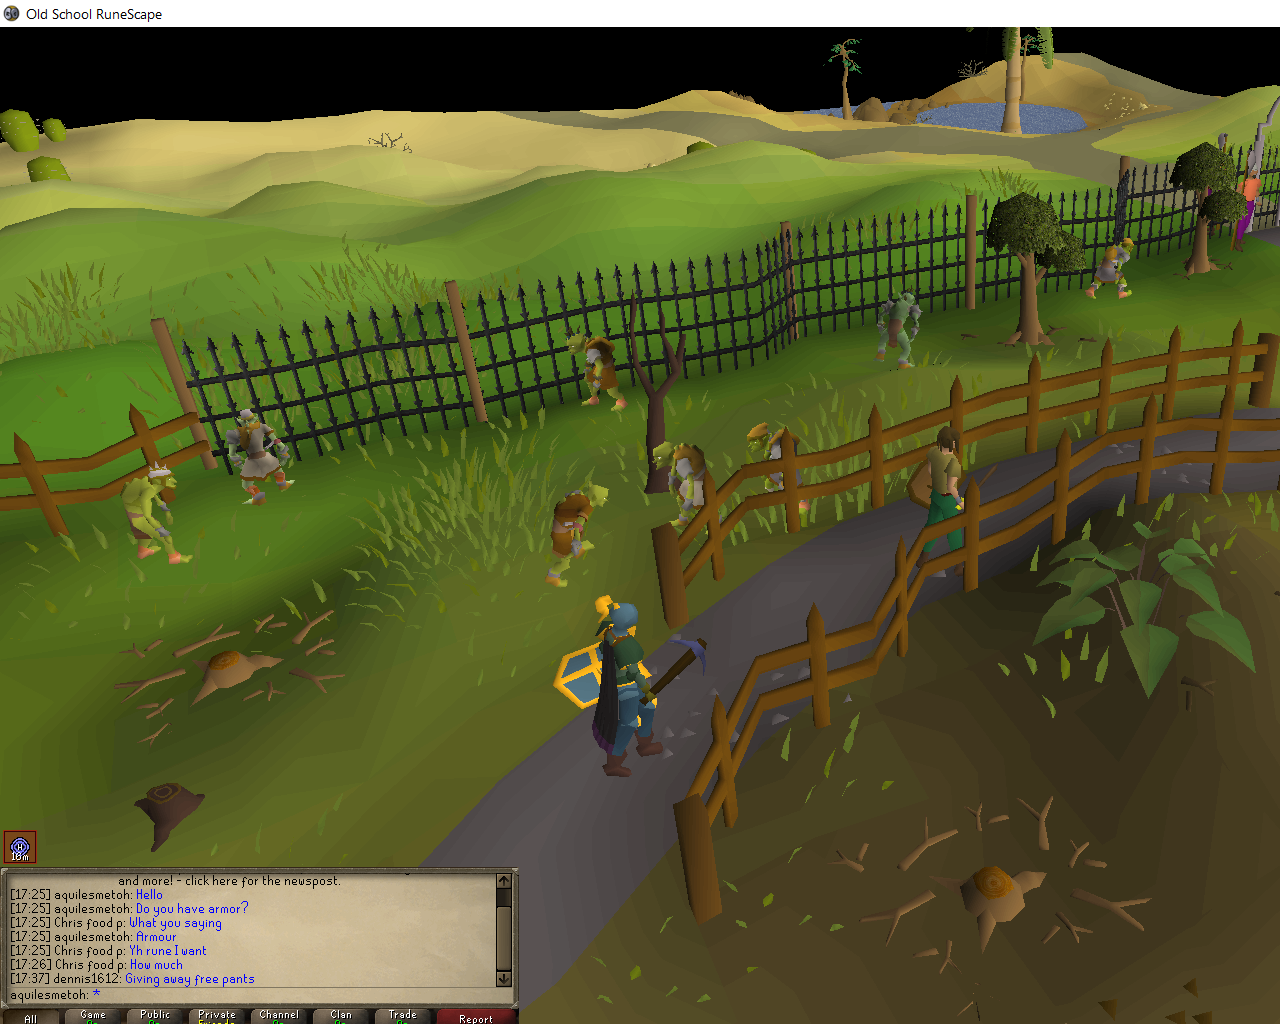Goblin: (115, 456, 197, 567), (220, 408, 300, 511), (542, 474, 610, 591), (649, 439, 725, 540), (749, 418, 819, 519), (563, 324, 634, 419), (870, 287, 929, 370), (1083, 234, 1141, 305)
